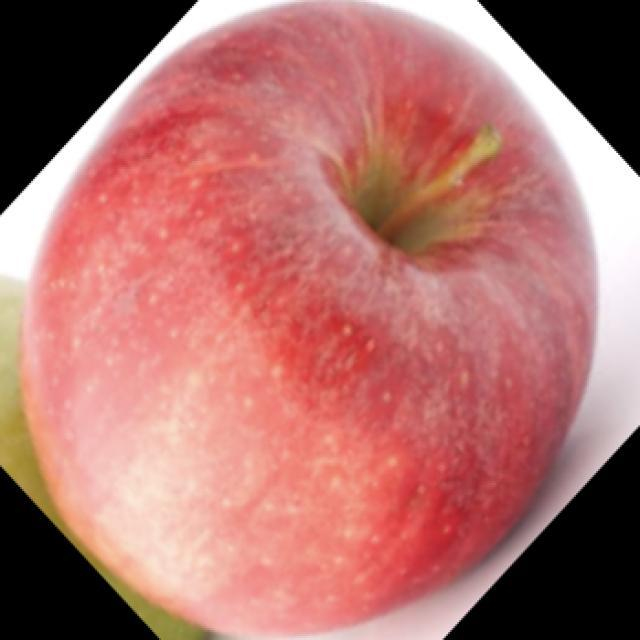Apple: (18, 0, 600, 639)
